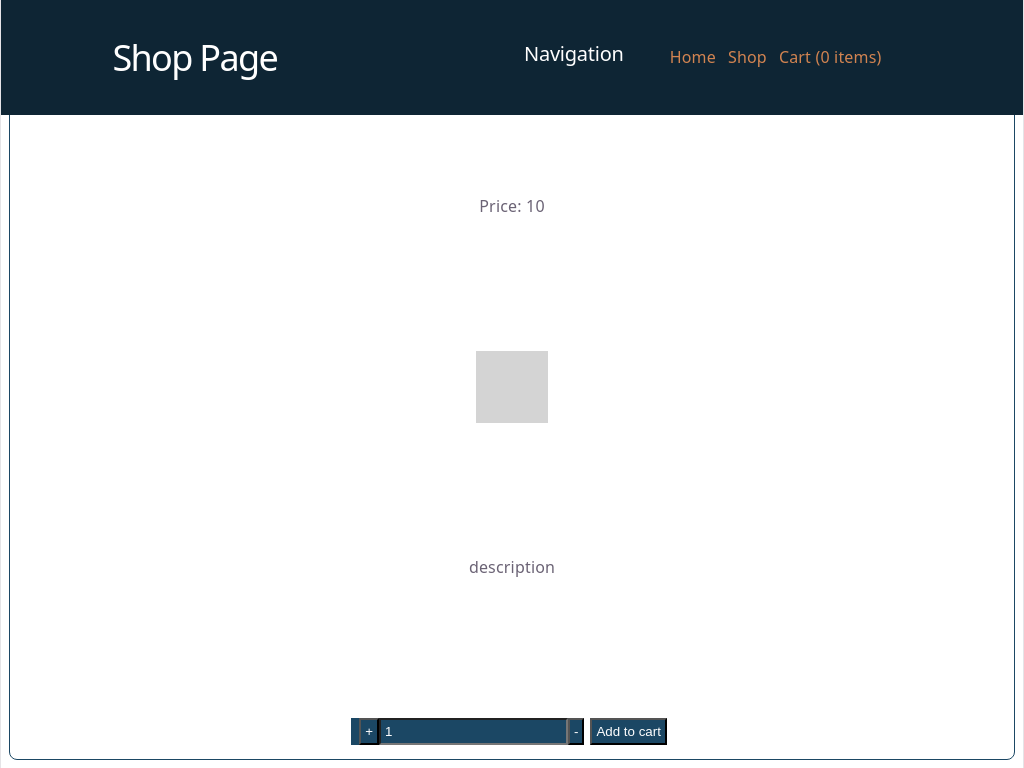
Test case: ShopPage component › adds multiple to cart
(page scrolled)
Click the button "+" at (369, 732), box [359,718,379,745]
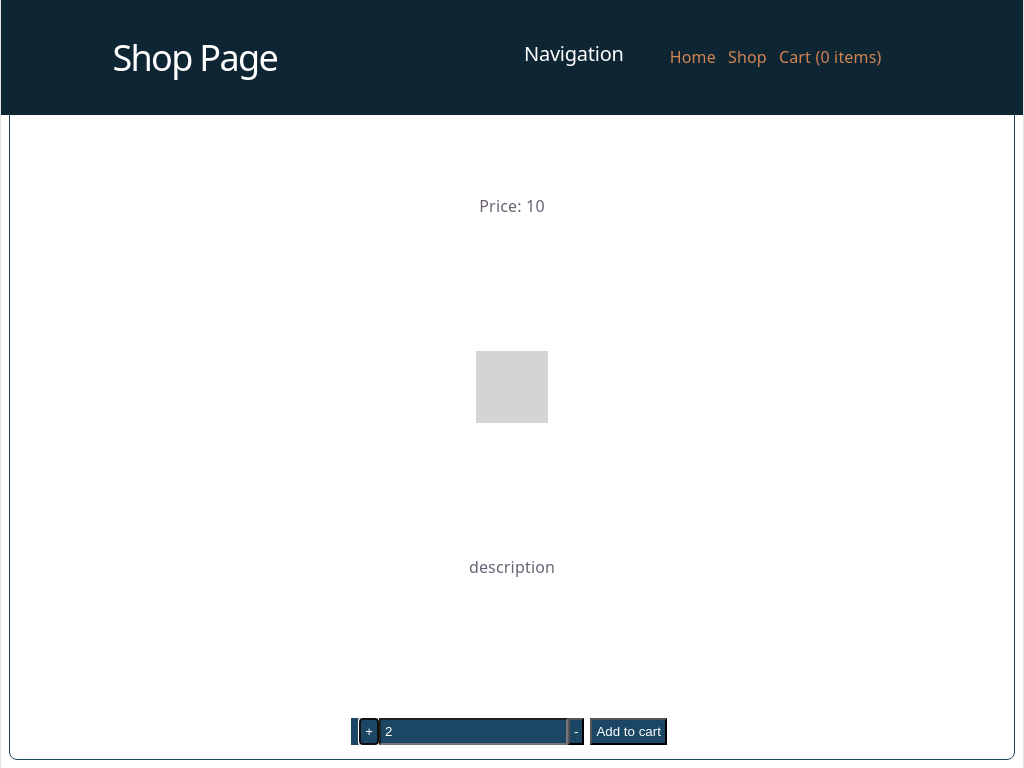
Click the button "-" at (576, 732), box [568,718,584,745]
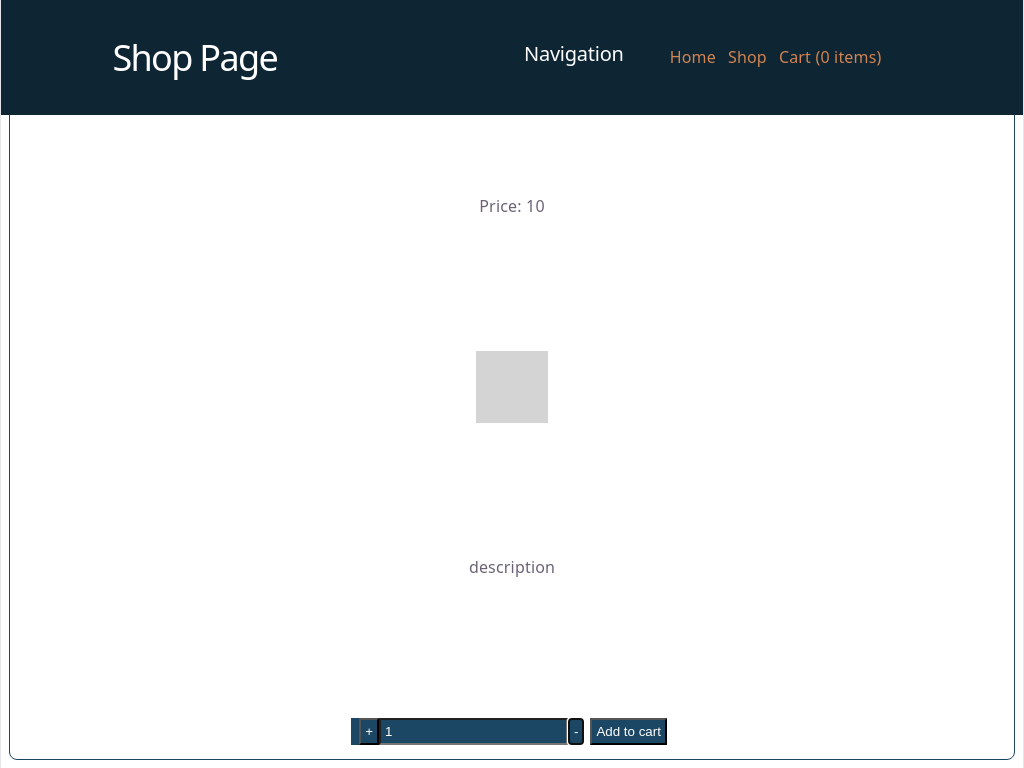
Click the button "+" at (369, 732), box [359,718,379,745]
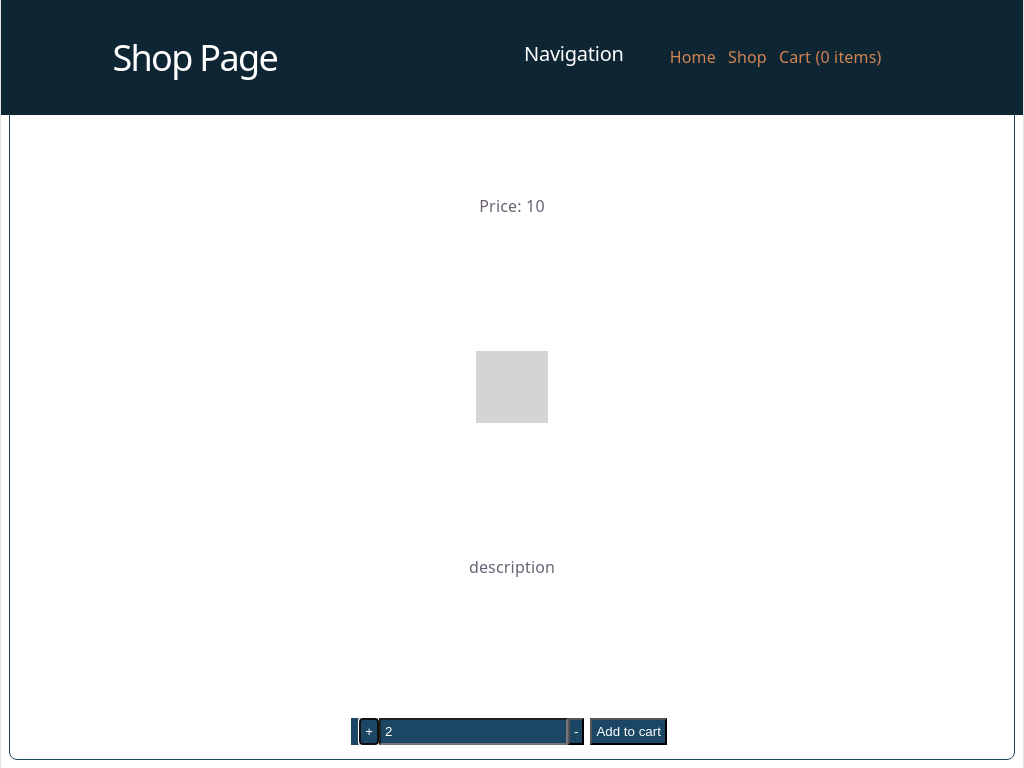
Expected: the number field holds "2", [379,718,568,745]
Click the button "Add to cart" at (629, 732), box [590,718,667,745]
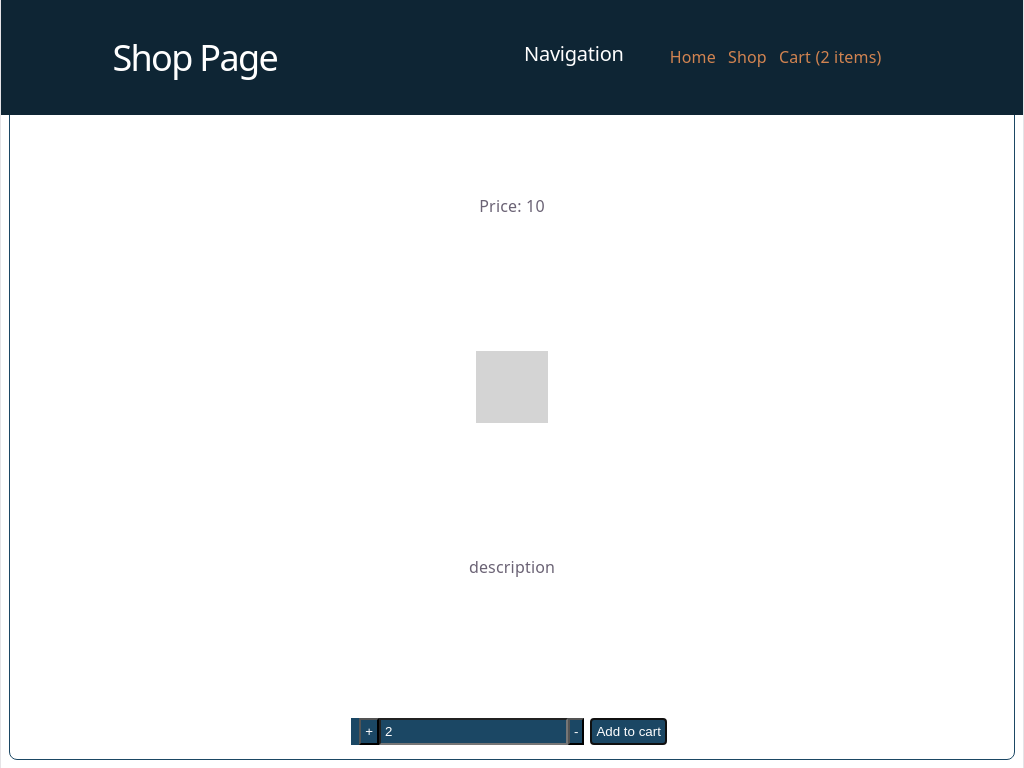
Expected: the link "Cart (2 items)" is shown, [779,46,882,68]
